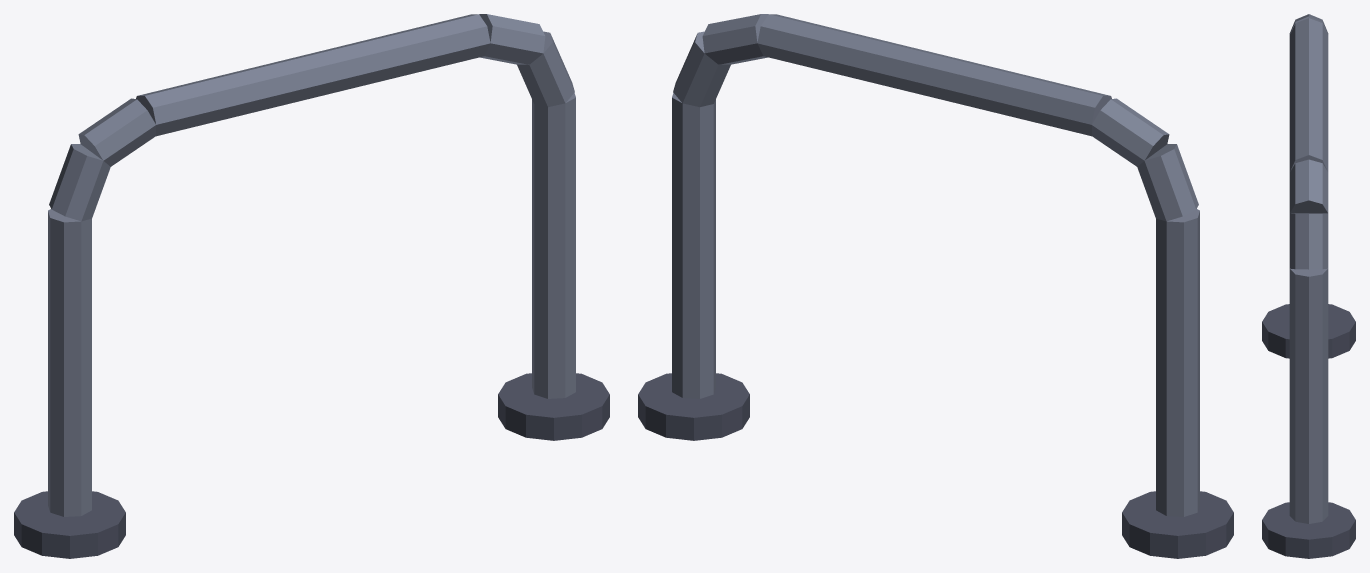
Rendered from bicycle_rack.glb.
The picture shows the model from 3 angles, left to right: view 1: azimuth 30°, elevation 25°; view 2: azimuth 150°, elevation 25°; view 3: azimuth 270°, elevation 25°; orthographic projection. The views are drawn at different scales.
Visible parts, largest first — view 1: bicycle_rack__Arch.002, bicycle_rack__Upright, bicycle_rack__Upright.001, bicycle_rack__Foot, bicycle_rack__Foot.001, bicycle_rack__Arch, bicycle_rack__Arch.001, bicycle_rack__Arch.003, bicycle_rack__Arch.004; view 2: bicycle_rack__Arch.002, bicycle_rack__Upright, bicycle_rack__Upright.001, bicycle_rack__Foot, bicycle_rack__Foot.001, bicycle_rack__Arch, bicycle_rack__Arch.001, bicycle_rack__Arch.003, bicycle_rack__Arch.004; view 3: bicycle_rack__Upright.001, bicycle_rack__Arch.002, bicycle_rack__Foot.001, bicycle_rack__Foot, bicycle_rack__Arch.004, bicycle_rack__Arch.003, bicycle_rack__Arch.001.
Boxes of the visible parts, bbox=[...] form: bicycle_rack__Arch.002: bbox=[136, 14, 490, 136]; bicycle_rack__Upright: bbox=[48, 209, 91, 516]; bicycle_rack__Upright.001: bbox=[532, 93, 575, 398]; bicycle_rack__Foot: bbox=[14, 491, 125, 558]; bicycle_rack__Foot.001: bbox=[498, 373, 609, 440]; bicycle_rack__Arch: bbox=[49, 144, 110, 221]; bicycle_rack__Arch.001: bbox=[78, 98, 156, 166]; bicycle_rack__Arch.003: bbox=[479, 14, 545, 64]; bicycle_rack__Arch.004: bbox=[517, 31, 574, 107]; bicycle_rack__Arch.002: bbox=[757, 14, 1111, 136]; bicycle_rack__Upright: bbox=[1156, 209, 1199, 516]; bicycle_rack__Upright.001: bbox=[672, 93, 715, 398]; bicycle_rack__Foot: bbox=[1122, 491, 1233, 558]; bicycle_rack__Foot.001: bbox=[638, 373, 749, 440]; bicycle_rack__Arch: bbox=[1137, 144, 1198, 221]; bicycle_rack__Arch.001: bbox=[1091, 98, 1169, 166]; bicycle_rack__Arch.003: bbox=[702, 14, 768, 64]; bicycle_rack__Arch.004: bbox=[673, 31, 730, 107]; bicycle_rack__Upright.001: bbox=[1289, 268, 1328, 523]; bicycle_rack__Arch.002: bbox=[1289, 18, 1328, 171]; bicycle_rack__Foot.001: bbox=[1262, 502, 1355, 558]; bicycle_rack__Foot: bbox=[1262, 304, 1355, 358]; bicycle_rack__Arch.004: bbox=[1289, 213, 1328, 269]; bicycle_rack__Arch.003: bbox=[1289, 159, 1328, 213]; bicycle_rack__Arch.001: bbox=[1289, 14, 1328, 34].
Size of the model in its own units: 0.264 by 0.183 by 0.044.
